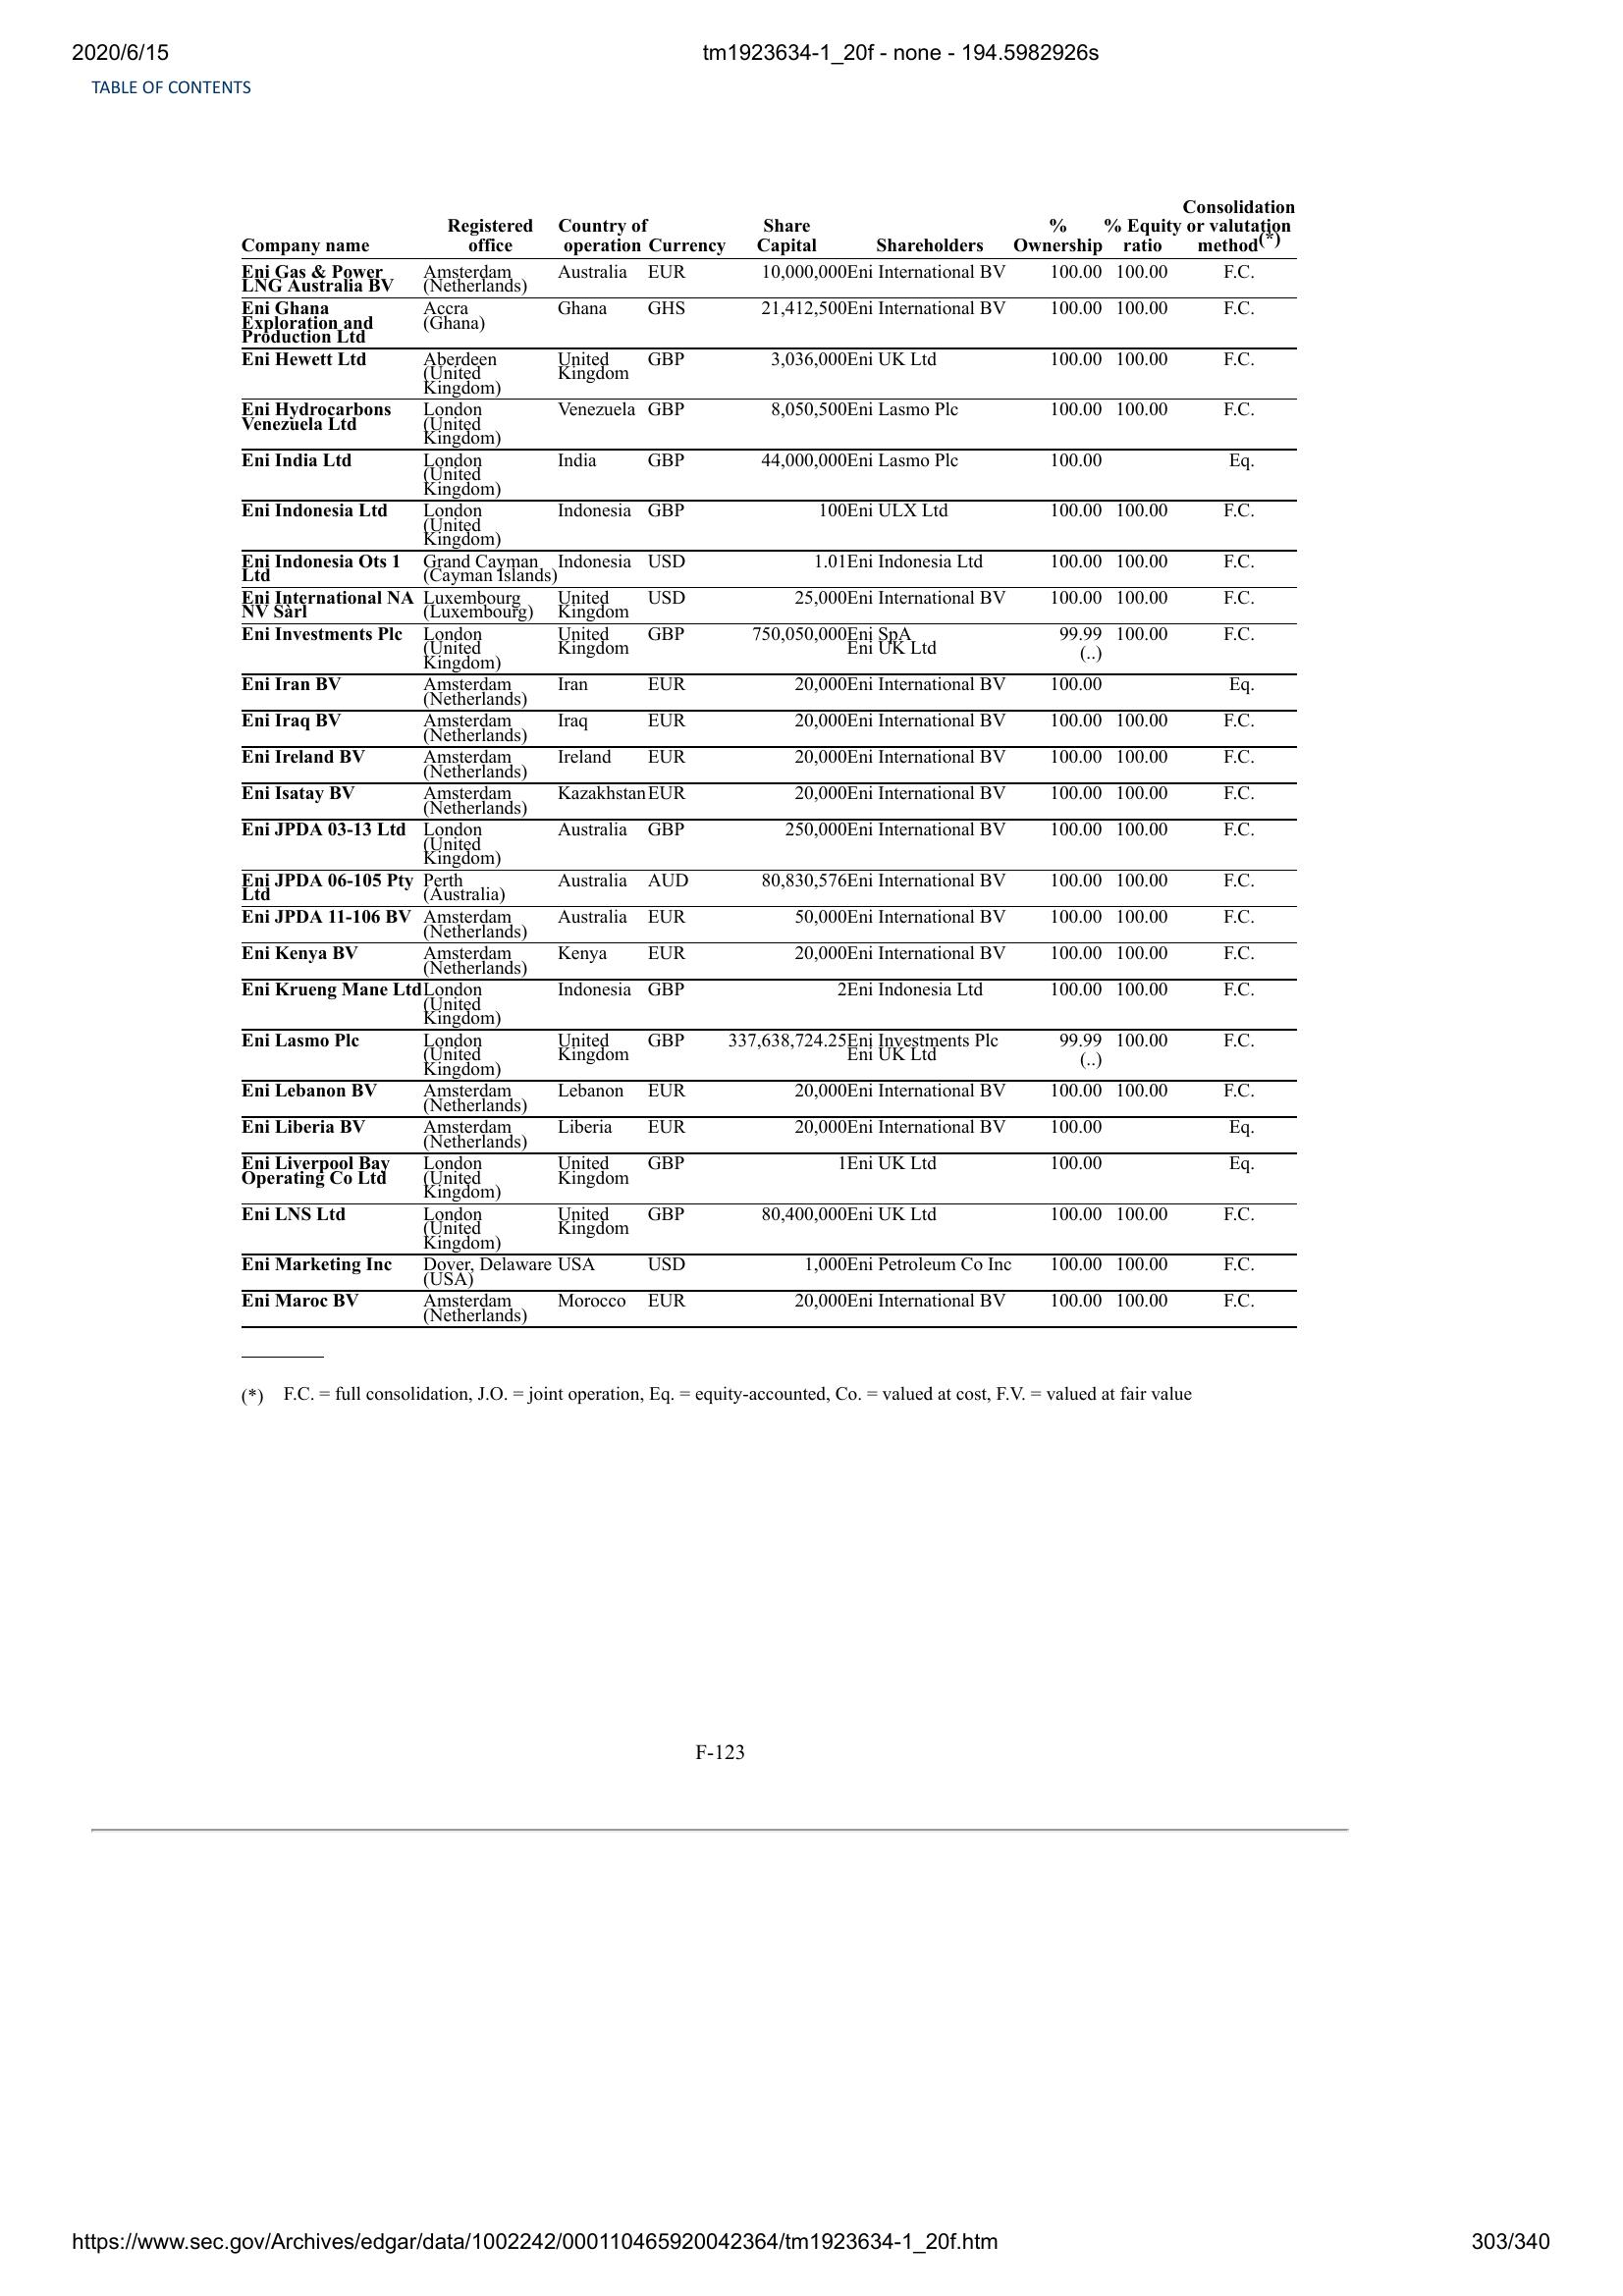table: (234, 195, 1312, 1341)
